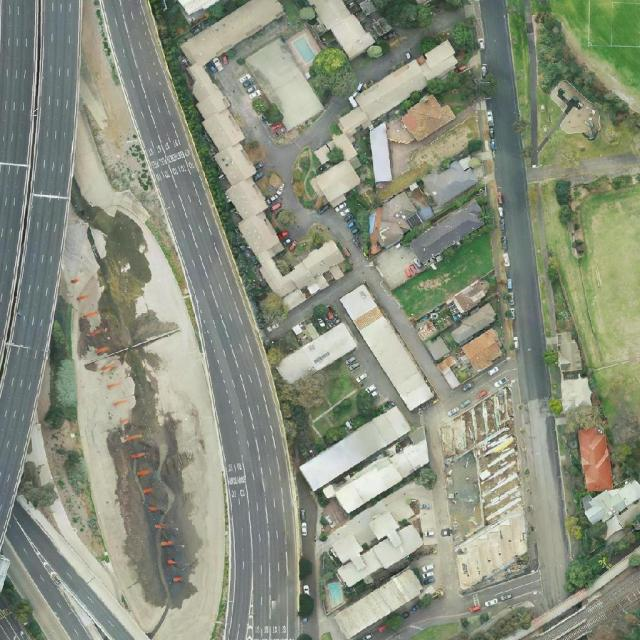building: (176, 57, 305, 303), (313, 477, 453, 593), (408, 273, 529, 391), (330, 36, 463, 140), (339, 283, 436, 413), (297, 405, 412, 492), (323, 435, 439, 519), (243, 36, 326, 133), (179, 0, 287, 71), (296, 131, 378, 212), (274, 321, 359, 390), (527, 75, 604, 151), (407, 199, 489, 264), (351, 190, 427, 259), (380, 89, 457, 156), (281, 237, 346, 295), (418, 152, 480, 209), (553, 330, 593, 412), (577, 426, 615, 492), (285, 26, 328, 73), (368, 122, 393, 183), (178, 0, 218, 15)
dryland: (52, 0, 174, 262), (43, 110, 151, 243)
greenland: (149, 0, 271, 308), (497, 0, 633, 148), (274, 351, 388, 461), (391, 230, 506, 322), (421, 18, 504, 118), (44, 296, 85, 431), (505, 0, 537, 148), (565, 500, 611, 592), (305, 42, 361, 104), (410, 618, 482, 640), (248, 92, 288, 128), (562, 402, 604, 434), (200, 0, 247, 26), (256, 290, 287, 326), (553, 179, 573, 224), (432, 1, 469, 10)
metalled_road: (267, 240, 482, 401), (281, 243, 456, 407), (246, 139, 367, 284), (515, 397, 574, 608), (346, 0, 470, 95), (209, 54, 295, 177), (424, 346, 522, 426), (423, 458, 462, 616), (369, 585, 471, 640), (294, 92, 357, 159), (461, 568, 541, 610), (295, 470, 323, 563), (419, 402, 445, 478), (0, 596, 31, 639), (435, 491, 440, 509)
unmetalled_road: (36, 497, 130, 618), (14, 491, 86, 572), (17, 414, 54, 487), (583, 555, 633, 597), (115, 608, 144, 637)
